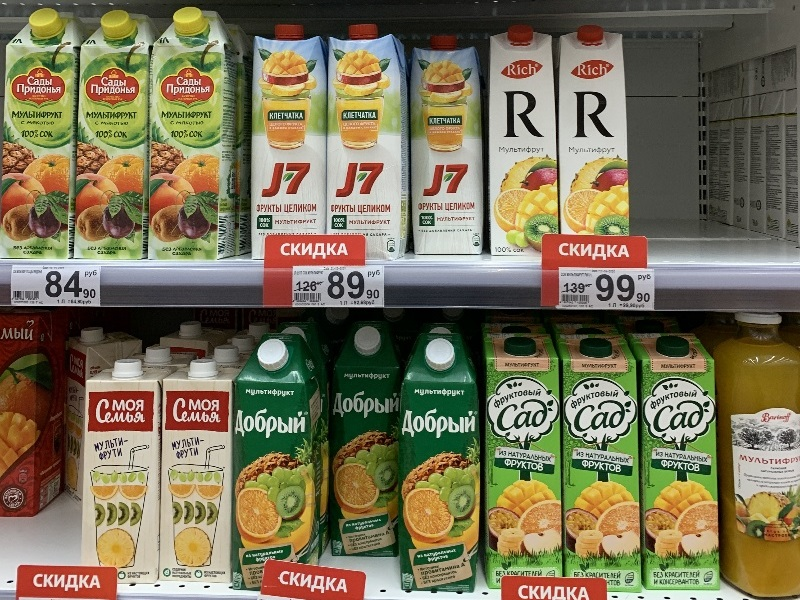juice: (137, 5, 253, 266), (623, 326, 731, 595), (555, 330, 652, 598), (228, 332, 333, 574), (479, 327, 576, 586), (394, 330, 487, 597), (396, 29, 501, 263), (318, 324, 417, 570), (70, 9, 162, 271), (1, 1, 90, 267), (239, 25, 334, 244), (318, 22, 413, 238), (481, 25, 569, 245), (553, 22, 641, 242)
